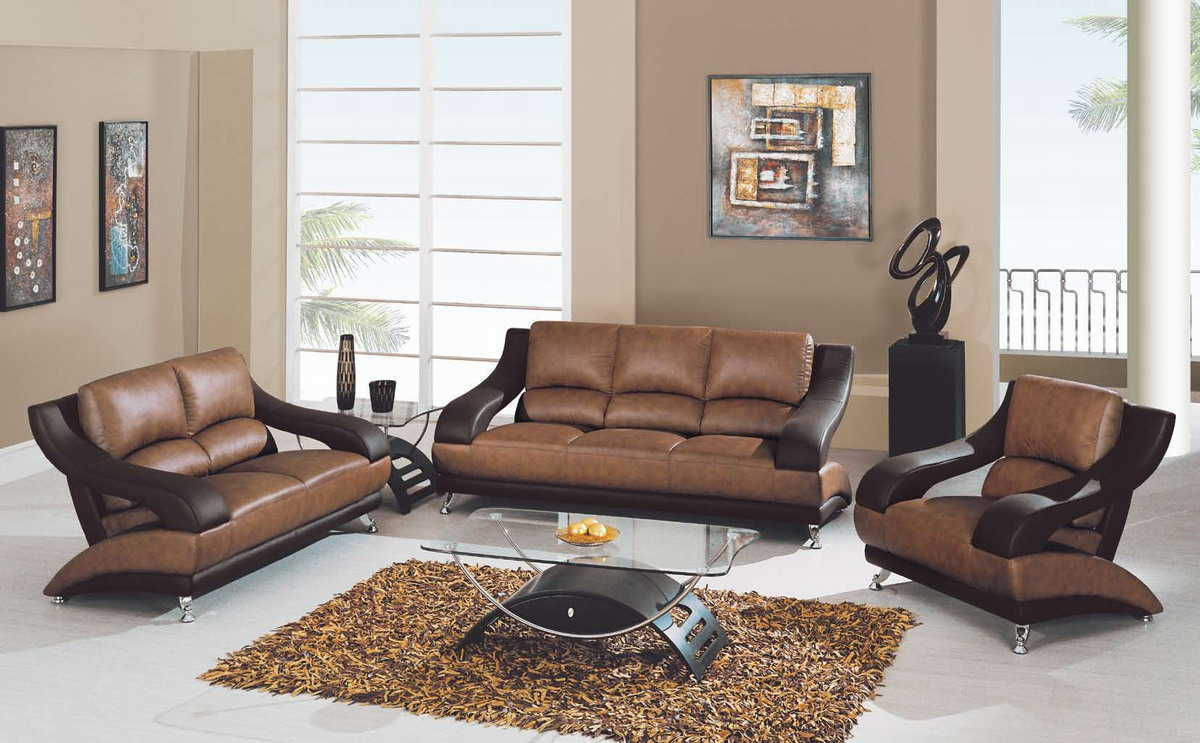meja: (441, 502, 759, 681)
sova: (437, 314, 846, 544), (861, 388, 1186, 656), (34, 354, 400, 553)
tanaman: (299, 205, 410, 355)
